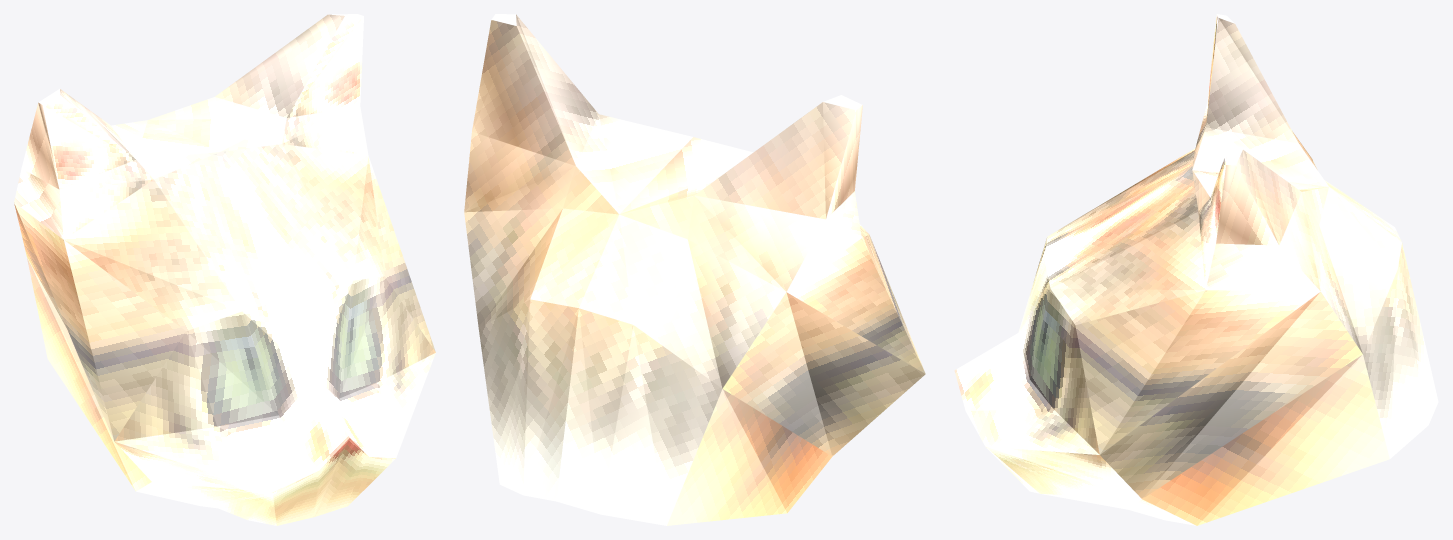
File: catheadv2.glb
3 renders of one model, left to right at view 1: azimuth 30°, elevation 25°; view 2: azimuth 150°, elevation 25°; view 3: azimuth 270°, elevation 25°, orthographic. The views are drawn at different scales.
Parts seen in each view (by area): view 1: Cube.001; view 2: Cube.001; view 3: Cube.001.
Boxes of the visible parts, left/top/right/bottom form: Cube.001: left=14, top=14, right=435, bottom=525; Cube.001: left=464, top=14, right=925, bottom=525; Cube.001: left=954, top=14, right=1438, bottom=525.
Bounding box in the file's own units: 0.372 × 0.4503 × 0.4749.
